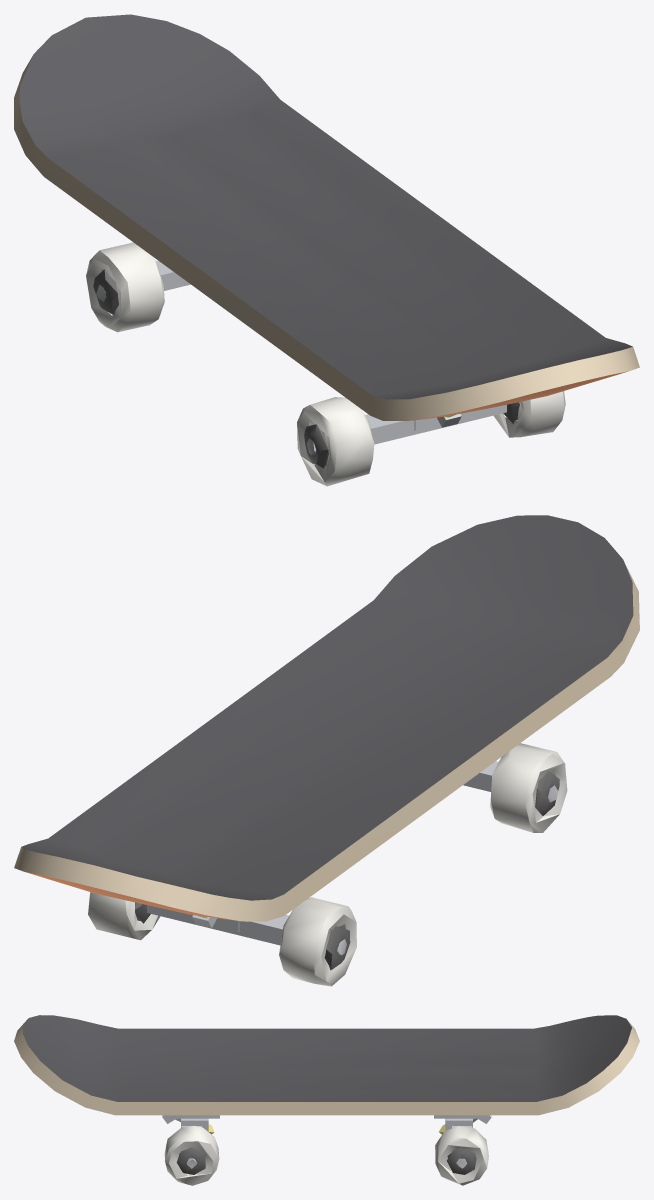
File: fingerboard-low.glb
The picture shows the model from 3 angles, top to bottom: view 1: azimuth 30°, elevation 25°; view 2: azimuth 150°, elevation 25°; view 3: azimuth 270°, elevation 25°; orthographic projection. The views are drawn at different scales.
Parts seen in each view (by area): view 1: fingerboard.001; view 2: fingerboard.001; view 3: fingerboard.001.
Part boxes in pixels (bbox=[...]): fingerboard.001: bbox=[14, 14, 639, 486]; fingerboard.001: bbox=[14, 515, 639, 986]; fingerboard.001: bbox=[14, 1015, 639, 1185].
Bounding box in the file's own units: 1.28 × 0.9438 × 4.4.
